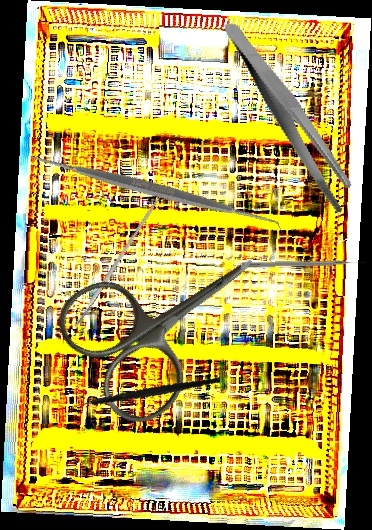Chopper: (66, 350, 221, 443)
Dressing Forceps: (222, 2, 359, 230)
Iris Scissors: (45, 200, 296, 436)
Pusher: (241, 259, 367, 270)
Scalpel Handle: (72, 195, 162, 329)
Spatula Surgical: (24, 60, 286, 321)
